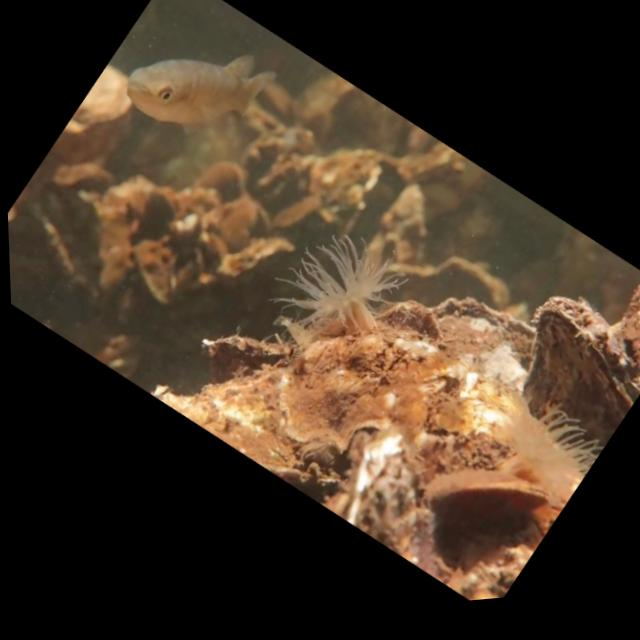Oyster-Closed: (516, 287, 640, 450), (422, 464, 554, 529), (197, 330, 299, 379)
